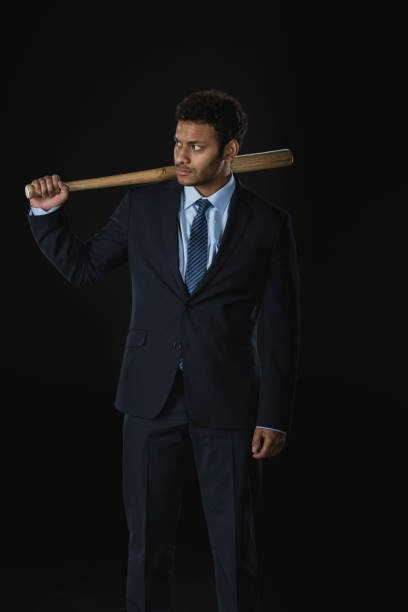bita: (25, 157, 177, 193), (234, 146, 298, 171)
